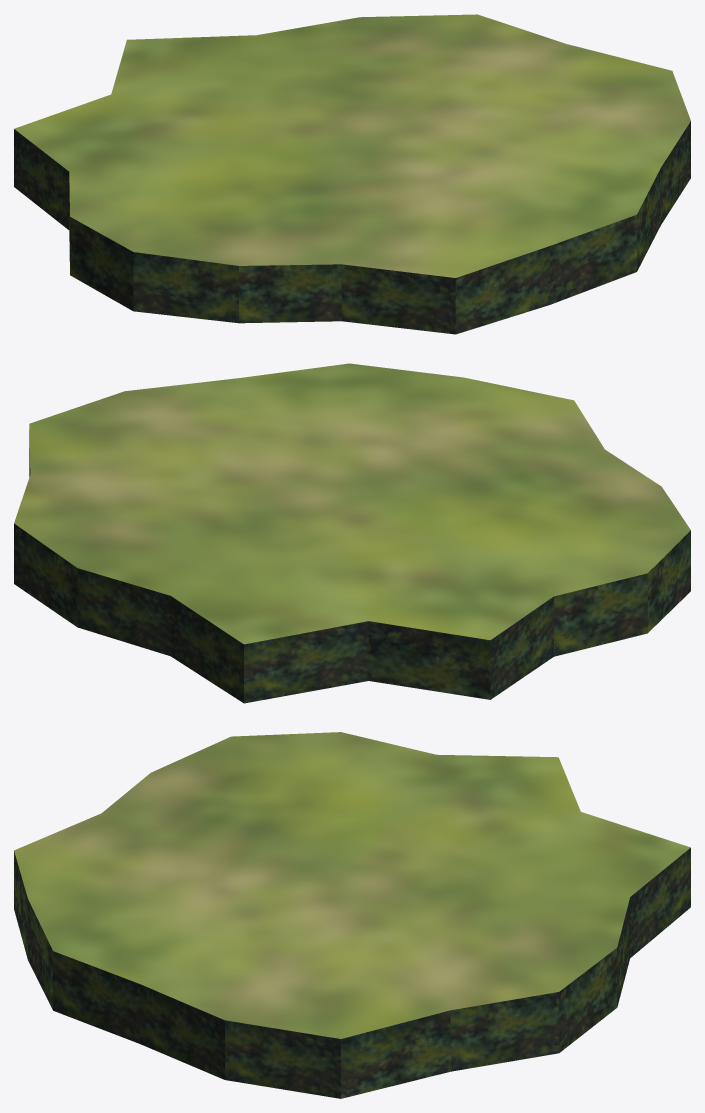
Rendered from Ground_Meadow_A.glb.
The picture shows the model from 3 angles, top to bottom: view 1: azimuth 30°, elevation 25°; view 2: azimuth 150°, elevation 25°; view 3: azimuth 270°, elevation 25°; orthographic projection. The views are drawn at different scales.
Parts seen in each view (by area): view 1: Ground_Meadow_A; view 2: Ground_Meadow_A; view 3: Ground_Meadow_A.
Boxes of the visible parts, x1,y1,x2,y2 form: Ground_Meadow_A: (14,14,690,334); Ground_Meadow_A: (14,363,690,703); Ground_Meadow_A: (14,732,690,1098).
Bounding box in the file's own units: 6.61 × 0.69 × 6.19.
1 material, 1 textured.
